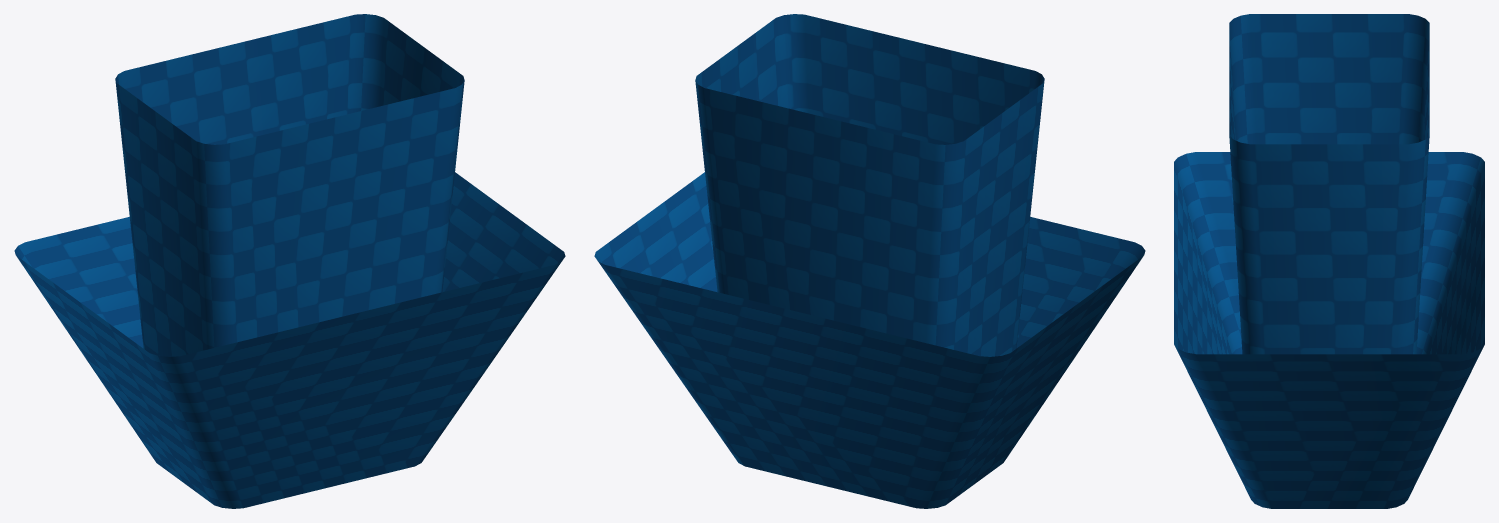
File: RewardBox_light.fbx
The picture shows the model from 3 angles, left to right: view 1: azimuth 30°, elevation 25°; view 2: azimuth 150°, elevation 25°; view 3: azimuth 270°, elevation 25°; orthographic projection.
Parts seen in each view (by area): view 1: Object005; view 2: Object005; view 3: Object005.
Part boxes in pixels (x1,y1,x2,y2): Object005: (14, 14, 565, 508); Object005: (594, 14, 1145, 508); Object005: (1174, 14, 1484, 508).
Bounding box in the file's own units: 281 × 245 × 182.
